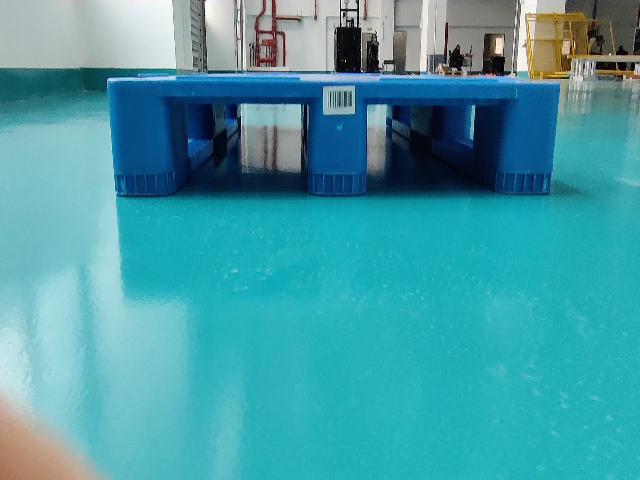block: (495, 84, 560, 197), (109, 79, 169, 199), (306, 79, 369, 193)
front: (110, 83, 556, 195)
hole pallet: (164, 99, 318, 199), (367, 99, 513, 190)
